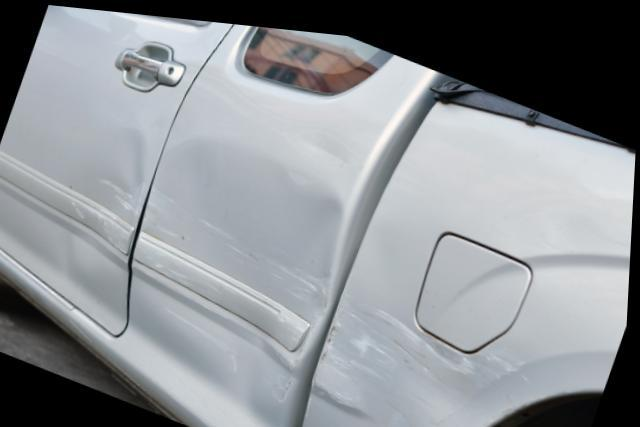dent: (142, 134, 347, 408), (318, 286, 539, 427), (70, 127, 146, 271), (293, 122, 355, 159)
